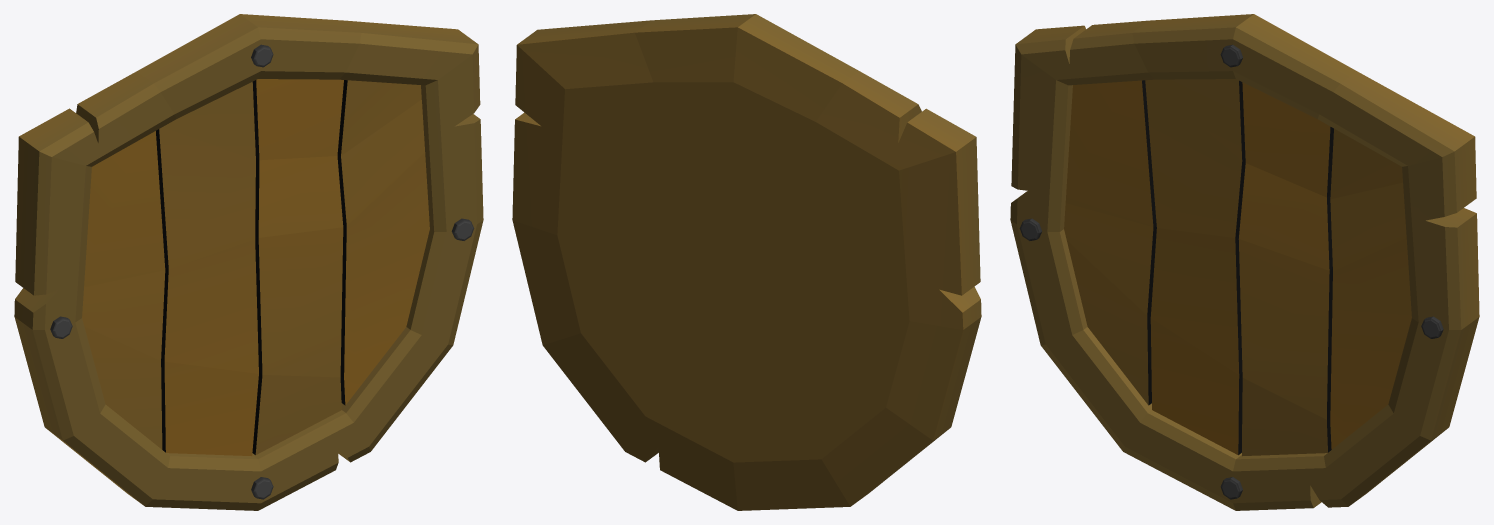
The model's file is shield_4.glb.
The picture shows the model from 3 angles, left to right: view 1: azimuth 30°, elevation 25°; view 2: azimuth 150°, elevation 25°; view 3: azimuth 330°, elevation 25°; orthographic projection.
Parts seen in each view (by area): view 1: shield_4; view 2: shield_4; view 3: shield_4.
Boxes of the visible parts, x1,y1,x2,y2 form: shield_4: (14,14,483,510); shield_4: (512,14,981,510); shield_4: (1010,14,1479,510).
Size of the model in its own units: 0.5055 by 0.5182 by 0.0579.
1 material, 1 textured.
